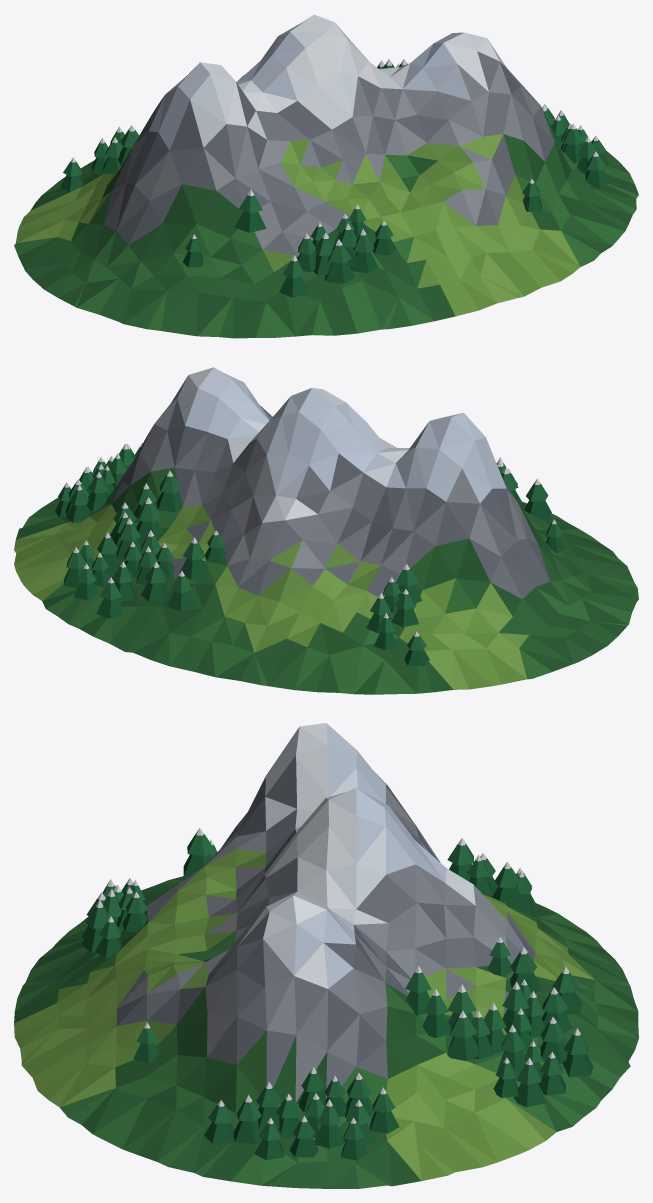
File: alps-mountain-3.glb
3 views of the same model, one above another, from view 1: azimuth 30°, elevation 25°; view 2: azimuth 150°, elevation 25°; view 3: azimuth 270°, elevation 25° (orthographic). The views are drawn at different scales.
Parts seen in each view (by area): view 1: AlpsMountain3; view 2: AlpsMountain3; view 3: AlpsMountain3.
Part boxes in pixels (box(x1,y1,x2,y2)): AlpsMountain3: box(14, 14, 638, 338); AlpsMountain3: box(14, 367, 638, 694); AlpsMountain3: box(14, 723, 638, 1188).
Bounding box in the file's own units: 0.9992 × 0.3339 × 0.7998.
